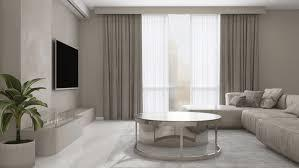Indoor Plant: (2, 74, 40, 166)
curtain: (101, 14, 143, 118), (221, 13, 259, 103)
pillow: (233, 89, 282, 108)
sofa: (183, 89, 299, 164)
table: (135, 111, 221, 159)
tv: (53, 37, 80, 90)
window: (144, 16, 219, 111)
